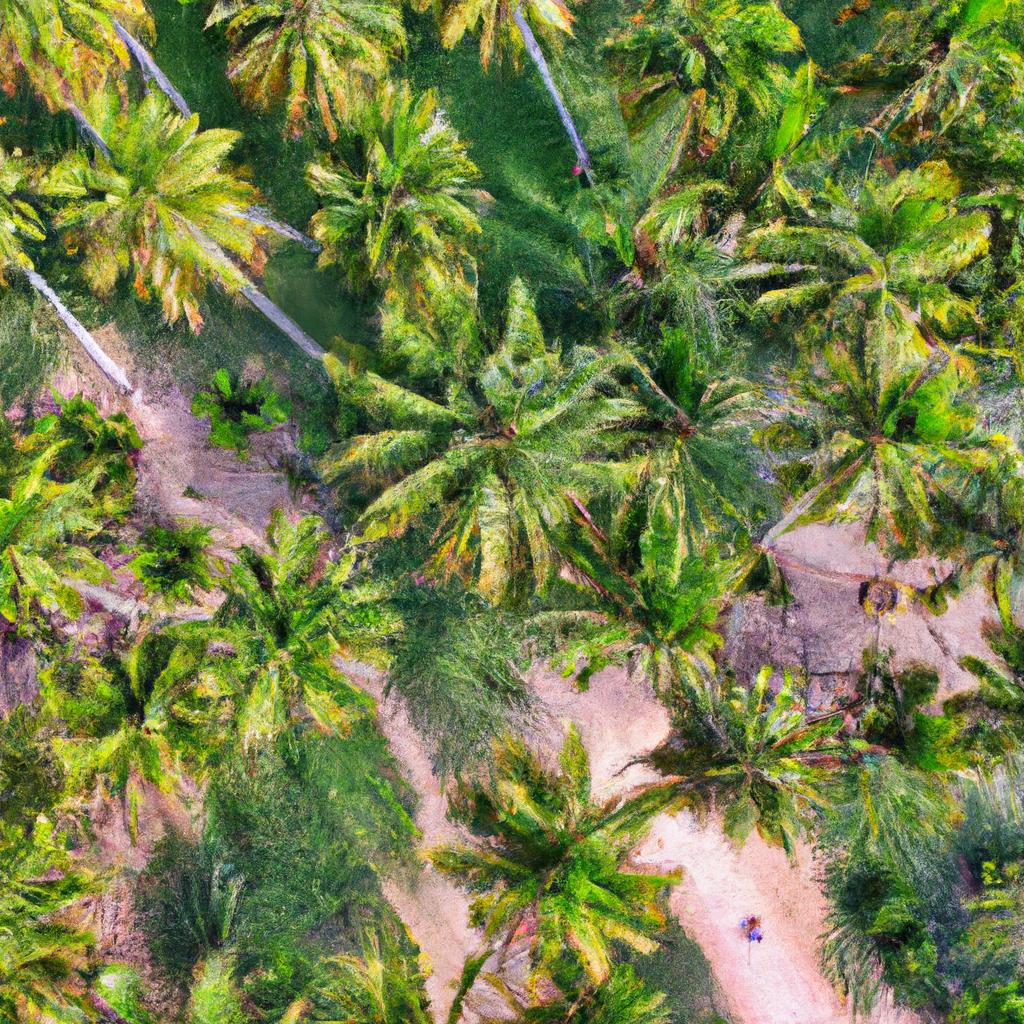coconut_tree: (292, 307, 671, 608), (408, 713, 701, 986), (159, 504, 422, 781), (36, 94, 311, 332), (297, 108, 530, 304)
